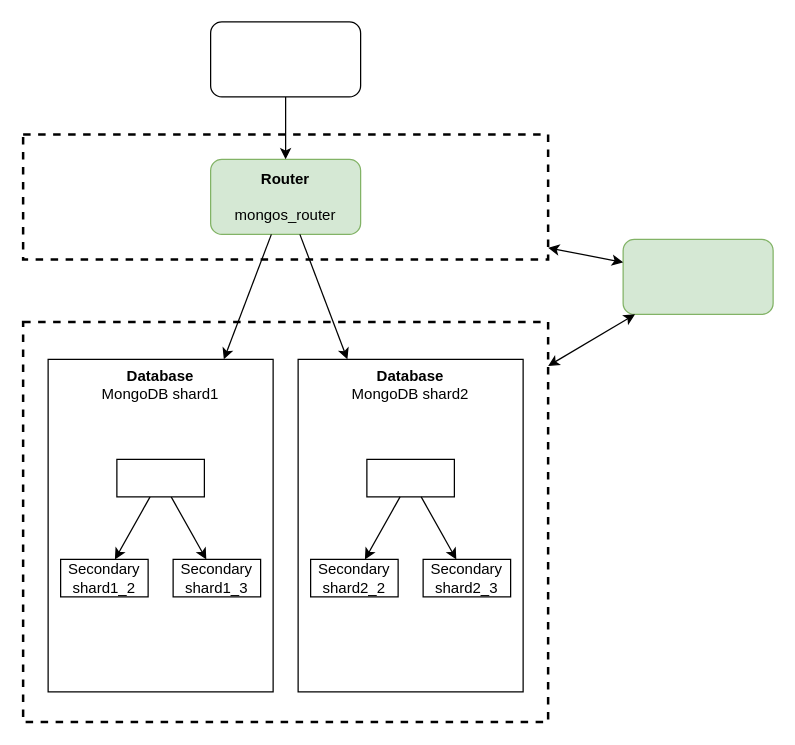
Some shapes in this 795 by 745 pixel diagram are drawn without their labels. Here are the shapes that lost their labels. From the top down, the centre of each, then its label:
At point (285, 59): "microservice pymongo-api".
At point (697, 276): "Config Server config_srv".
At point (160, 477): "Primary shard1_1".
At point (410, 477): "Primary shard2_1".
